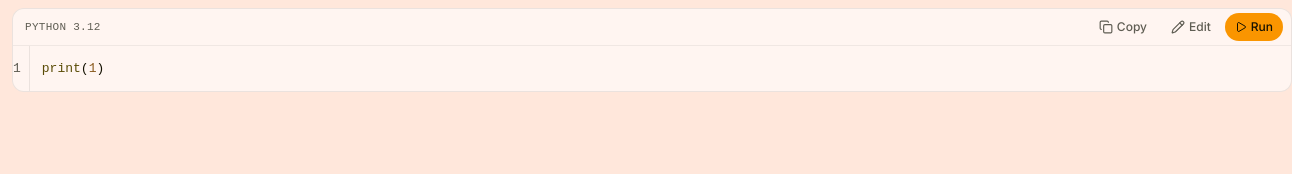
Test: RunnableCodeBlock › Clear output removes the result
Step 1. Click the button with aria-label "Run code" → (1254, 27), box [1225, 13, 1283, 41]
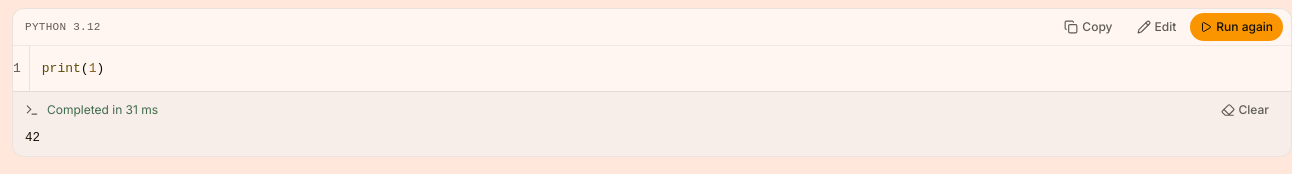
Expected: the element named "Program output" is shown, [25, 131, 40, 145]
Step 2. Click the button with aria-label "Clear output" → (1245, 110), box [1210, 98, 1279, 122]
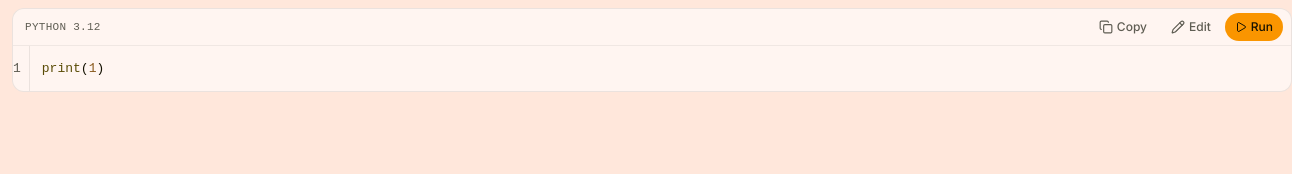
Expected: the button with aria-label "Run code" is shown, [1225, 13, 1283, 41]
